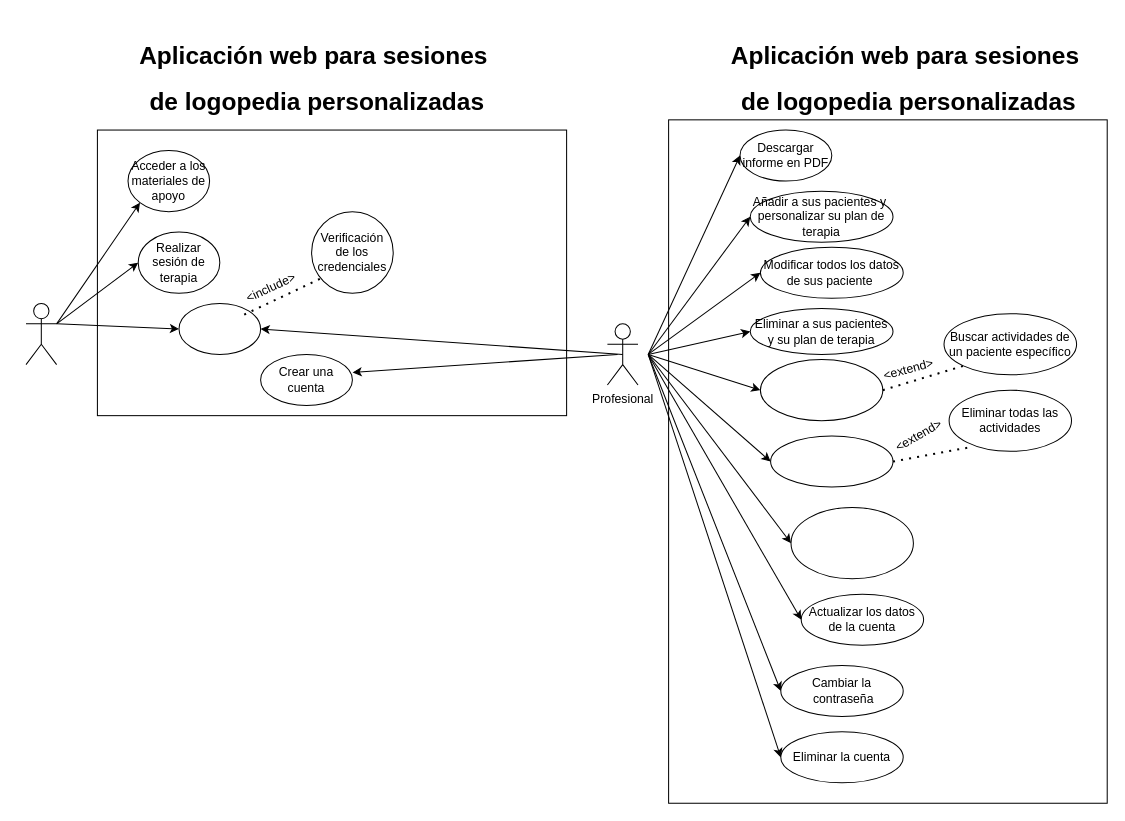
Some shapes in this 1125 by 821 pixel diagram are drawn without their labels. Here are the shapes that lost their labels. From the top down, the centre of each, then its label:
(x=41, y=333): Paciente
(x=219, y=328): Iniciar sesión
(x=821, y=390): Ver las actividades de sus pacientes
(x=831, y=461): Eliminar alguna actividad
(x=851, y=542): Ver el calendario de asistencia de sus pacientes
